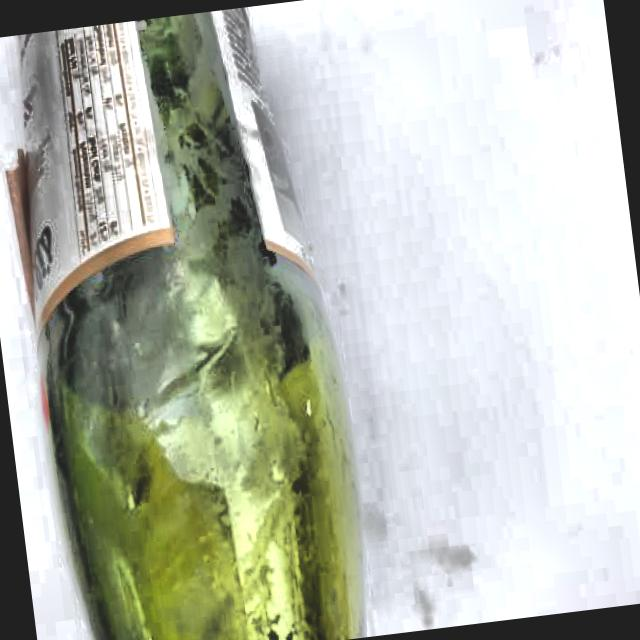glass: (0, 5, 380, 640)
